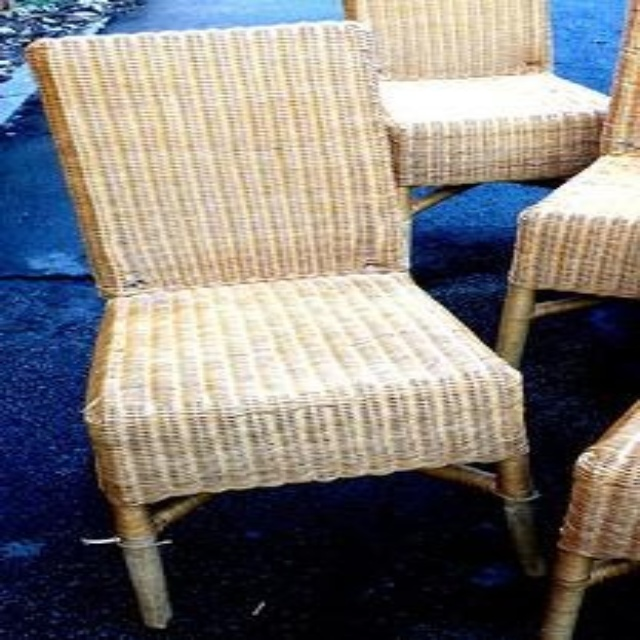obstacle: (28, 23, 526, 627)
